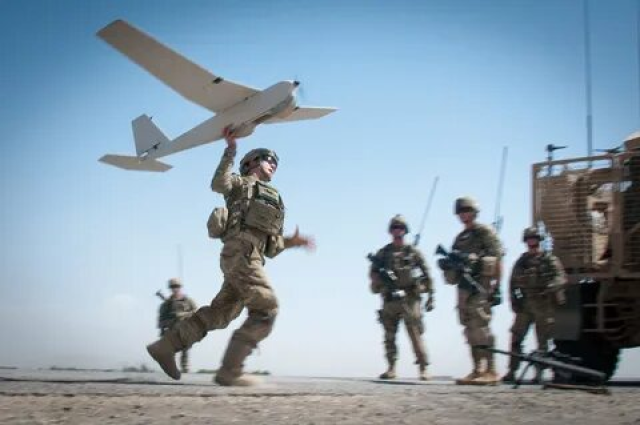military drone: (94, 17, 339, 173)
